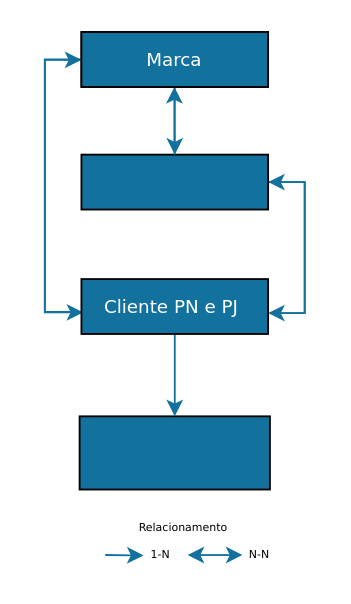
The diagram is 351 pixels wide and 604 high, and some of its shapes have lost their labels. The centre of each missing label's shape, as x and y in pixels:
Instituição: the point at 174,181
Operação de Crédito Financiamentos: the point at 174,452
